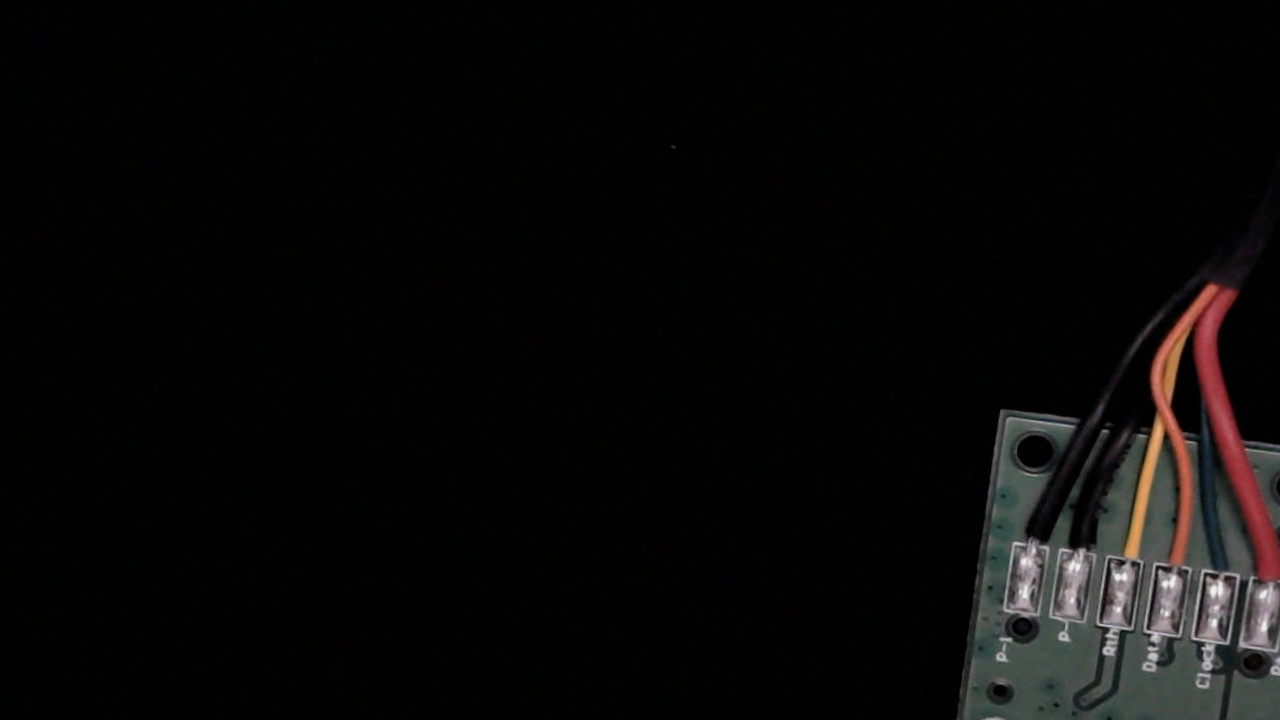Black: (1057, 489, 1111, 575)
Black1: (1008, 489, 1058, 568)
Green: (1199, 515, 1253, 598)
Orange: (1150, 504, 1203, 589)
Red: (1248, 515, 1280, 598)
Yellow: (1102, 498, 1157, 584)
